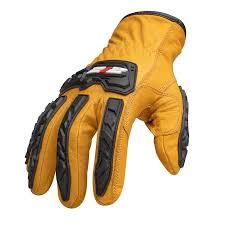gloves: (24, 9, 191, 210)
